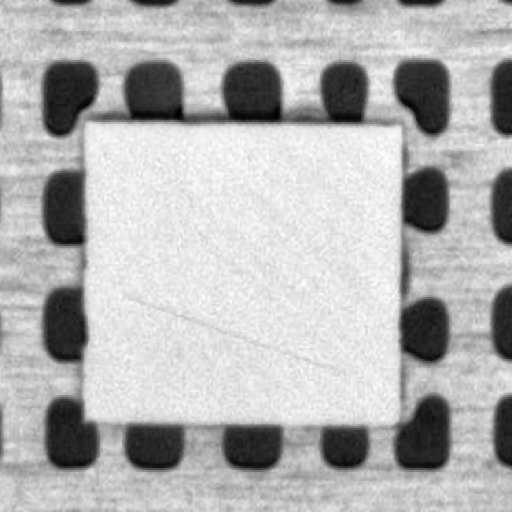DIE_CRACK: (160, 221, 458, 280)
